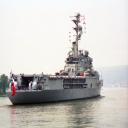Portanaves: (5, 13, 105, 108)
